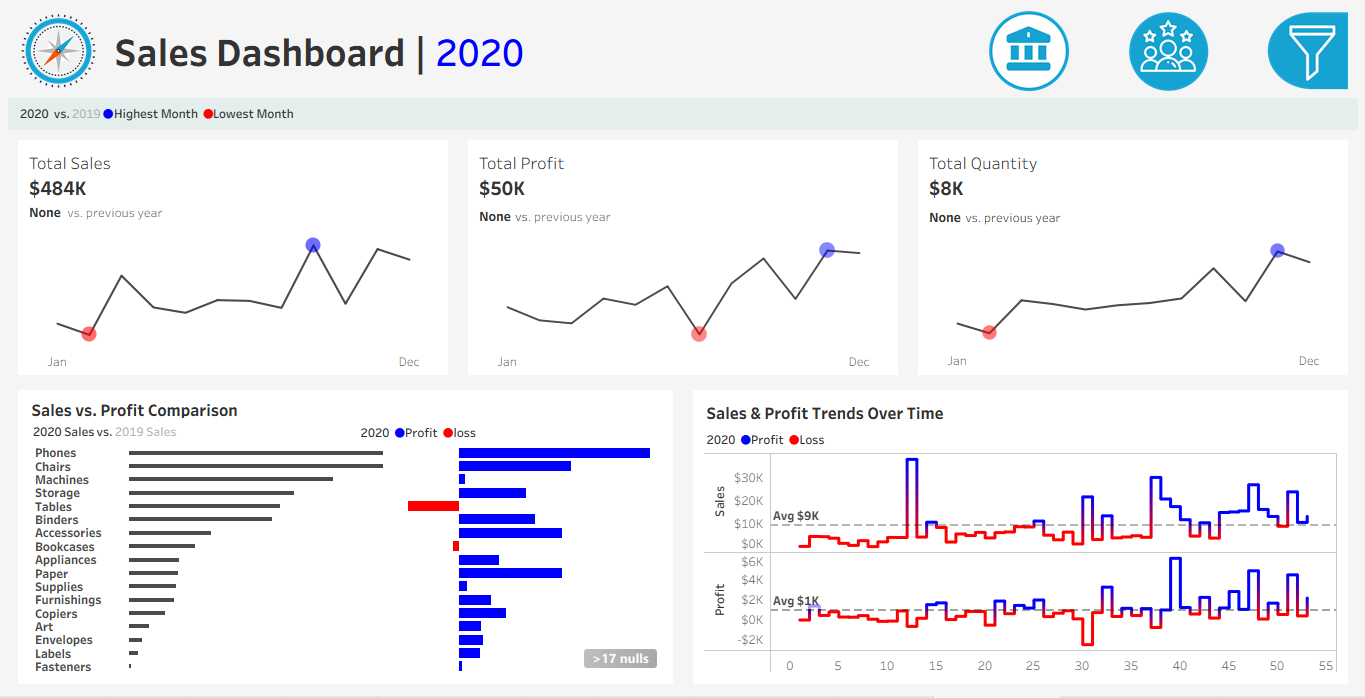

What the dashboard file says about the page in this screenshot:
{"tool":"tableau","page":{"name":"Sales Dashboard","canvas":[1350,685],"ordinal":1},"visuals":[{"type":"image","param":"Image/Icon - Logo.png","box":[0,0,100,94]},{"type":"text","box":[100,0,885,94]},{"type":"dashboard-object","box":[952,2,139,90]},{"type":"dashboard-object","box":[1091,2,138,90]},{"type":"blank","box":[974.6,8,367.4,49]},{"type":"text","box":[974.6,57,367.4,34]},{"type":"parameter","param":"[Parameters].[Parameter 1]","box":[974.6,91,367.4,67]},{"type":"worksheet","title":"Legend KPI","mark":"Automatic","box":[0,94,1350,42]},{"type":"worksheet","title":"KPI Sales","mark":"Line","rows":["Calculation_183521723776655361"],"cols":["Order Date"],"box":[0,136,450,245]},{"type":"worksheet","title":"KPI Profit","mark":"Line","rows":["Calculation_183521724060475405"],"cols":["Order Date"],"box":[450,136,450,245]},{"type":"worksheet","title":"KPI Quantity","mark":"Automatic","rows":["Calculation_865817068066885637"],"cols":["Order Date"],"box":[900,136,450,245]},{"type":"text","box":[974.6,158,367.4,30]},{"type":"filter","title":"KPI Profit","param":"[federated.1tqwn1c18slqfg18nc4yw0inmovr].[none:Category:nk]","box":[974.6,188,367.4,52]},{"type":"filter","title":"KPI Profit","param":"[federated.1tqwn1c18slqfg18nc4yw0inmovr].[none:Sub-Category:nk]","box":[974.6,240,367.4,52]},{"type":"text","box":[974.6,292,367.4,30]},{"type":"filter","title":"KPI Profit","param":"[federated.1tqwn1c18slqfg18nc4yw0inmovr].[none:Region:nk]","box":[974.6,322,367.4,52]},{"type":"filter","title":"KPI Profit","param":"[federated.1tqwn1c18slqfg18nc4yw0inmovr].[none:State:nk]","box":[974.6,374,367.4,52]},{"type":"text","box":[17,393,641,25]},{"type":"text","box":[692,393,641,32]},{"type":"worksheet","title":"Legend Subcategory chart","mark":"Automatic","box":[17,418,329,20]},{"type":"text","box":[346,418,312,20]},{"type":"text","box":[692,425,641,20]},{"type":"filter","title":"KPI Profit","param":"[federated.1tqwn1c18slqfg18nc4yw0inmovr].[none:City:nk]","box":[974.6,426,367.4,52]},{"type":"worksheet","title":"Sales Comparison","mark":"Bar","rows":["Sub-Category","Calculation_865817068102500363"],"cols":["C.Y sales (copy)_1577104333021556737","Calculation_1577104333021044736","Calculation_183521724056727561"],"box":[17,438,641,235]},{"type":"worksheet","title":"Weekly Trends","mark":"Automatic","rows":["Calculation_1577104333021044736","Calculation_183521724056727561"],"cols":["Order Date"],"box":[692,445,641,228]}]}

Visuals, with their boxes in screenshot pixels (x1, y1, x2, y2), scaled from the page's 1350x685 canvas onto the 1365x698 screenshot:
image: select_region(0, 0, 101, 96)
text: select_region(101, 0, 996, 96)
dashboard-object: select_region(963, 2, 1103, 94)
dashboard-object: select_region(1103, 2, 1243, 94)
blank: select_region(985, 8, 1357, 58)
text: select_region(985, 58, 1357, 93)
parameter: select_region(985, 93, 1357, 161)
"Legend KPI" worksheet: select_region(0, 96, 1364, 139)
"KPI Sales" worksheet (Line marks): select_region(0, 139, 455, 388)
"KPI Profit" worksheet (Line marks): select_region(455, 139, 910, 388)
"KPI Quantity" worksheet: select_region(910, 139, 1364, 388)
text: select_region(985, 161, 1357, 192)
"KPI Profit" filter: select_region(985, 192, 1357, 245)
"KPI Profit" filter: select_region(985, 245, 1357, 298)
text: select_region(985, 298, 1357, 328)
"KPI Profit" filter: select_region(985, 328, 1357, 381)
"KPI Profit" filter: select_region(985, 381, 1357, 434)
text: select_region(17, 400, 665, 426)
text: select_region(700, 400, 1348, 433)
"Legend Subcategory chart" worksheet: select_region(17, 426, 350, 446)
text: select_region(350, 426, 665, 446)
text: select_region(700, 433, 1348, 453)
"KPI Profit" filter: select_region(985, 434, 1357, 487)
"Sales Comparison" worksheet (Bar marks): select_region(17, 446, 665, 686)
"Weekly Trends" worksheet: select_region(700, 453, 1348, 686)
